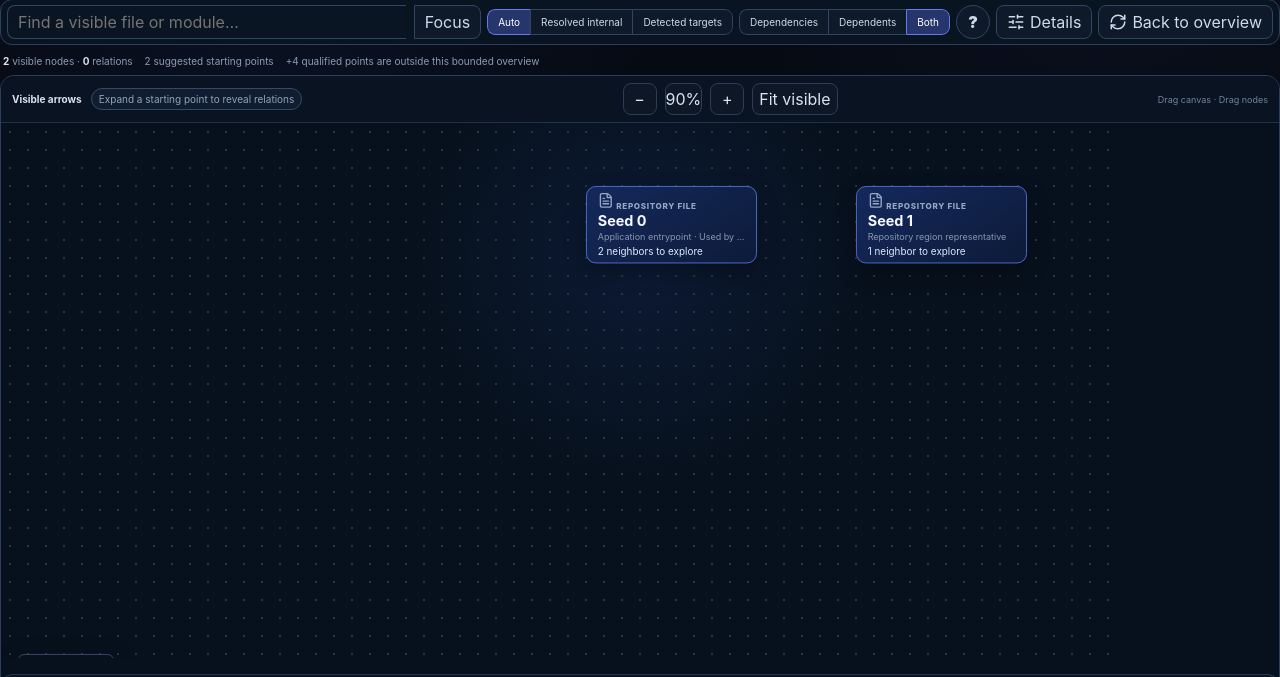
Test: GraphPage progressive dependency UX › returns to starting points when relationship direction changes
Click the button "Seed 0" at point(672, 225), box [586, 186, 757, 263]
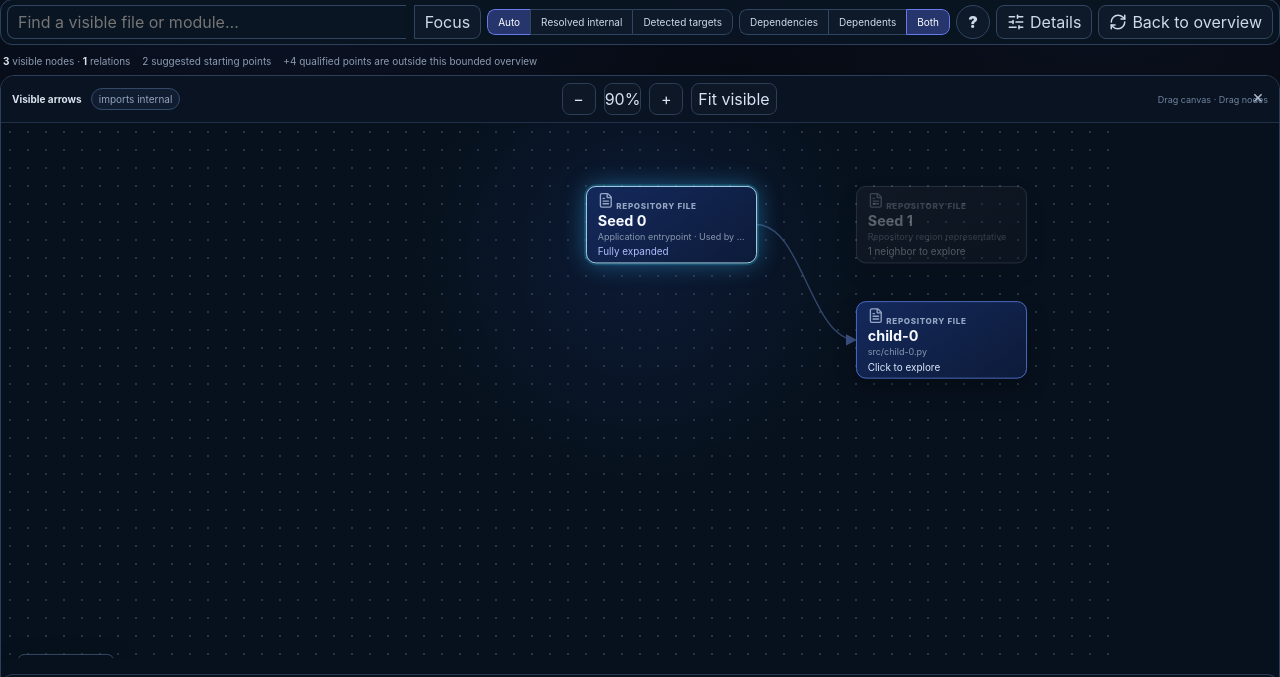
Click the button "Dependencies" in the row of "Details" at point(784, 22), box [739, 9, 828, 35]
(page scrolled)
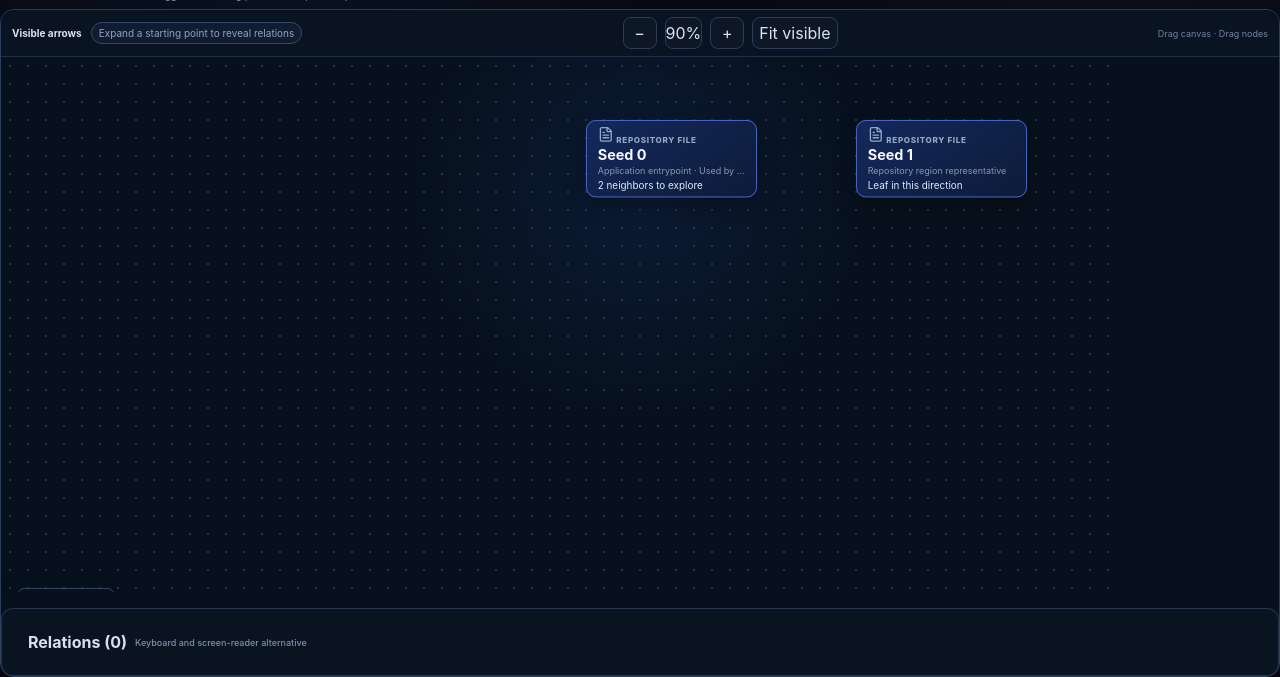
Expected: the heading "Relations (0)" is shown, [28, 632, 307, 652]
